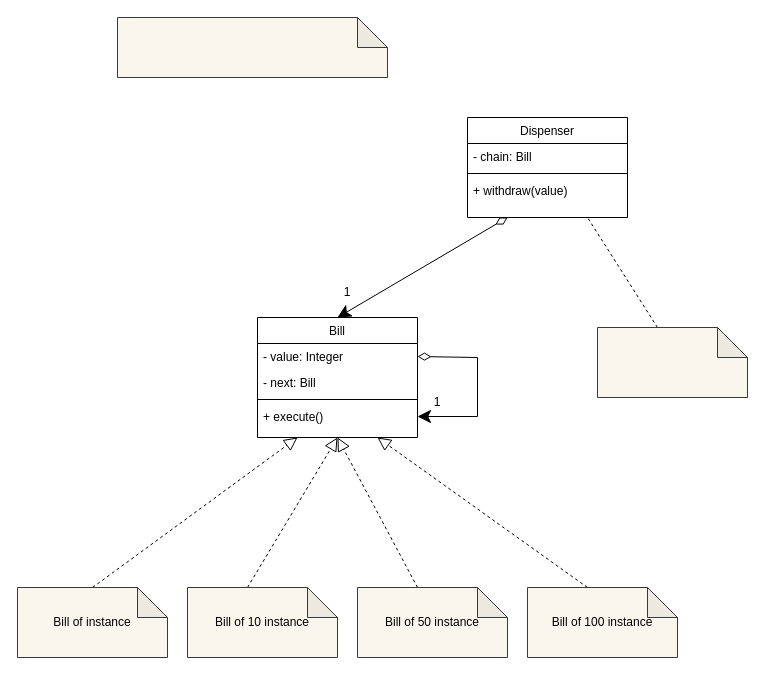
Image size: 765x675. Some labels were removed from this diagram. The shapes that lost their labels are listed below. From the top down, each one's centre as x and y in pixels, then its label:
the point at 252,47: Chain of Responsability (after) Bills Dispenser
the point at 672,362: chain.execute()
